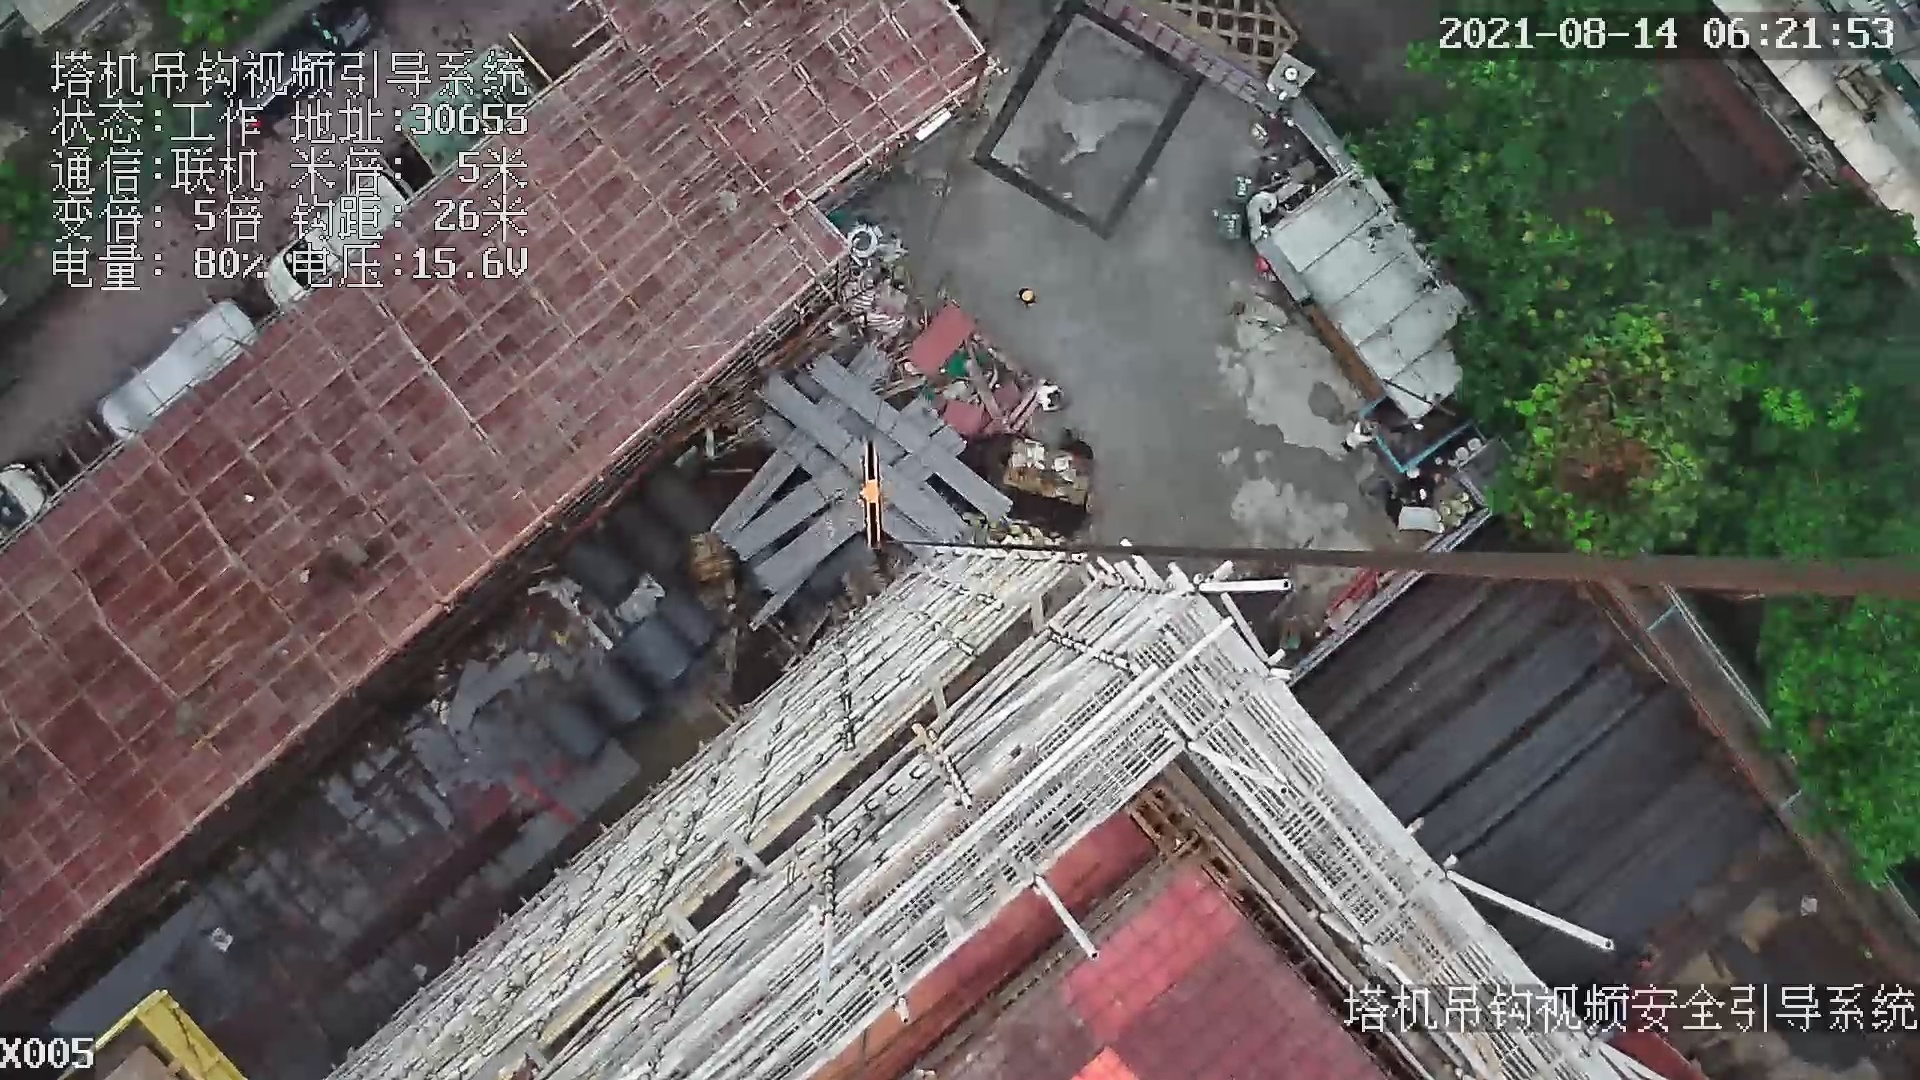hook: (858, 440, 880, 554)
